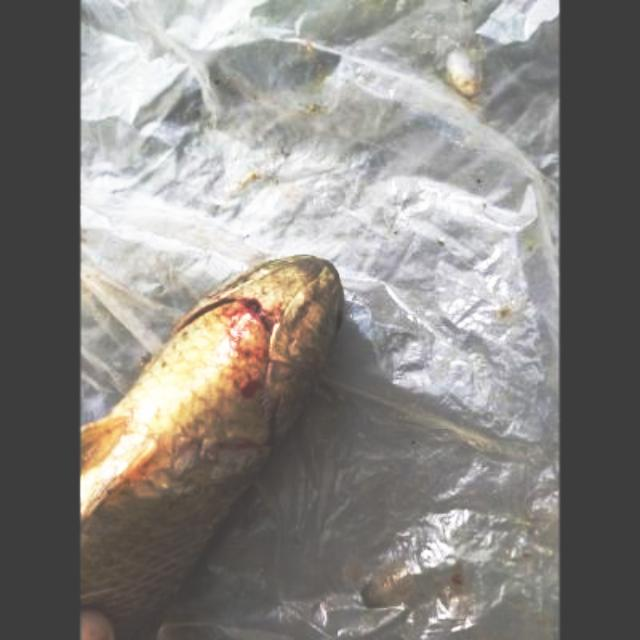Flavobacterium -Bacterial Gill Disease-: (81, 255, 342, 640)
